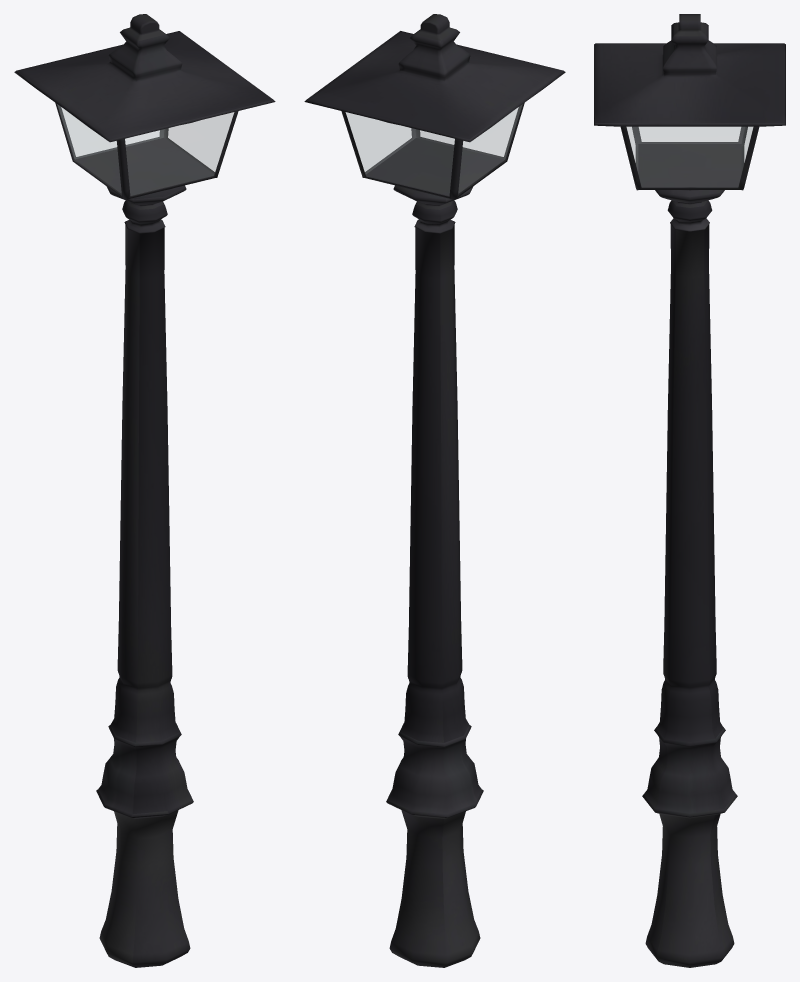
The model's file is Street lamp.fbx.
The picture shows the model from 3 angles, left to right: view 1: azimuth 30°, elevation 25°; view 2: azimuth 150°, elevation 25°; view 3: azimuth 270°, elevation 25°; orthographic projection.
Parts seen in each view (by area): view 1: Street lamp, Glass; view 2: Street lamp, Glass; view 3: Street lamp, Glass.
Part boxes in pixels (x1=…): Street lamp: x1=14, y1=14, x2=275, y2=967; Glass: x1=57, y1=104, x2=233, y2=195; Street lamp: x1=304, y1=14, x2=565, y2=967; Glass: x1=346, y1=104, x2=522, y2=195; Street lamp: x1=594, y1=14, x2=785, y2=967; Glass: x1=627, y1=127, x2=752, y2=186.
Bounding box in the file's own units: 66.82 × 362 × 66.82.
Materials: 2 (2 with a texture image).
